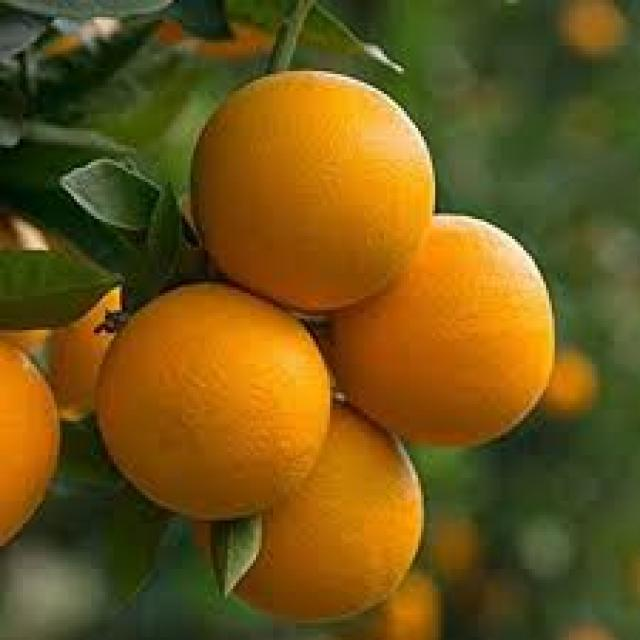Orange: (188, 68, 424, 301), (90, 286, 328, 516), (419, 216, 559, 445), (196, 516, 427, 625)
